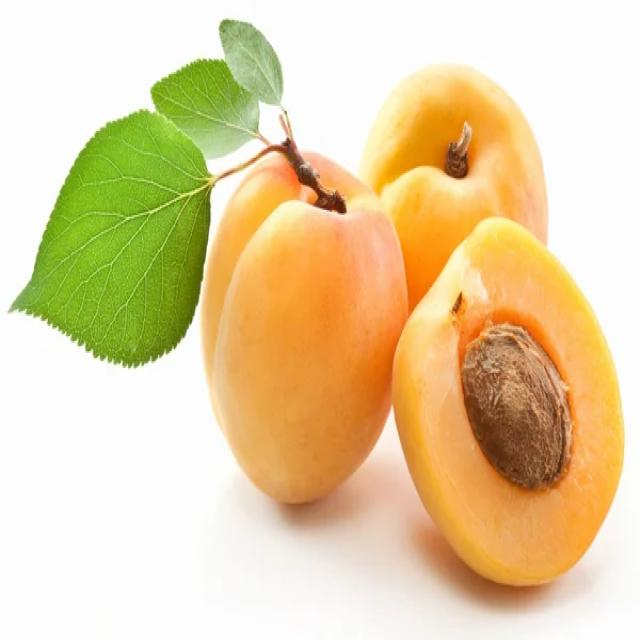cekirdek: (468, 325, 563, 483)
kayisi: (405, 222, 617, 594), (225, 151, 391, 505), (368, 56, 542, 261)
yaprak: (22, 101, 204, 377), (167, 48, 256, 150), (219, 15, 285, 104)
